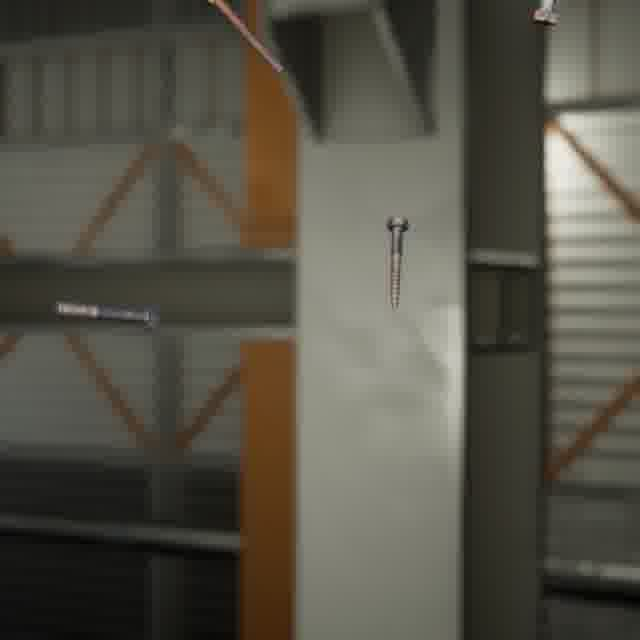bolt: (194, 0, 288, 78), (50, 297, 164, 335), (382, 213, 413, 313), (526, 0, 563, 30)
